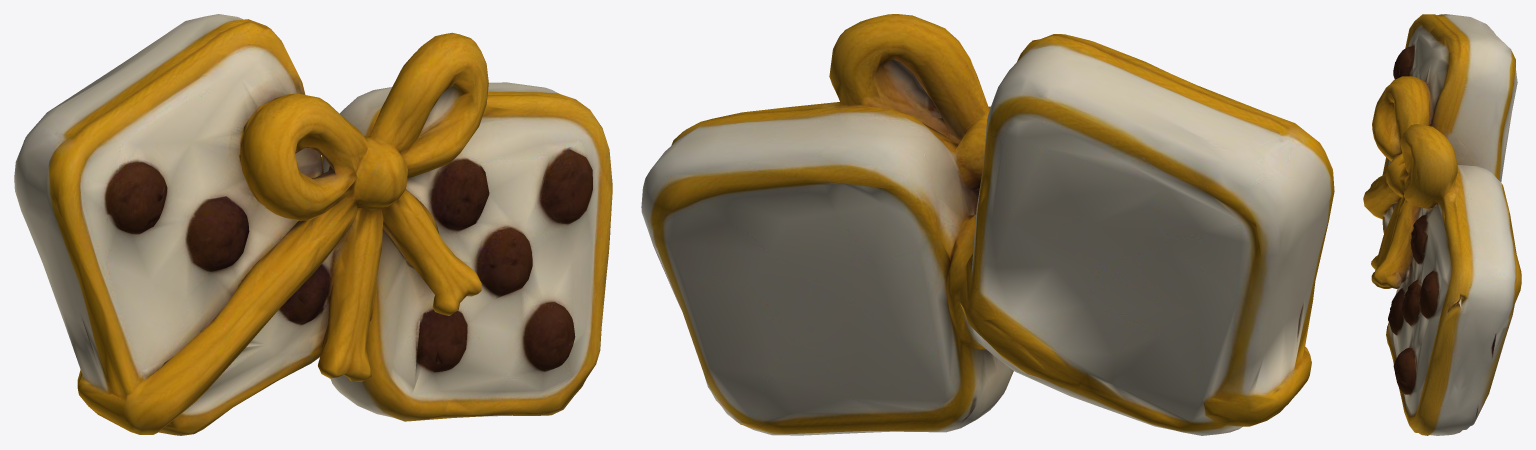
File: item-dice-plus2.glb
The picture shows the model from 3 angles, left to right: view 1: azimuth 30°, elevation 25°; view 2: azimuth 150°, elevation 25°; view 3: azimuth 270°, elevation 25°; orthographic projection. The views are drawn at different scales.
Visible parts, largest first — view 1: Mesh_0; view 2: Mesh_0; view 3: Mesh_0.
Part boxes in pixels (left/top/right/bottom): Mesh_0: left=14, top=14, right=612, bottom=435; Mesh_0: left=641, top=14, right=1334, bottom=435; Mesh_0: left=1363, top=14, right=1521, bottom=435.
Bounding box in the file's own units: 2 × 1.44 × 0.688.
1 material, 1 textured.
